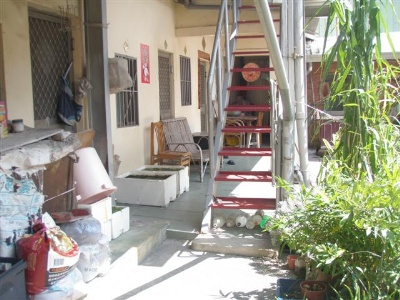bottle: (236, 211, 249, 228), (213, 213, 224, 228), (226, 214, 237, 227)
bucket: (73, 146, 116, 204)
plastic_bag: (25, 229, 78, 287), (77, 235, 111, 281), (63, 217, 101, 244)
plate: (277, 277, 302, 300)
styrofoam: (114, 171, 176, 206)
